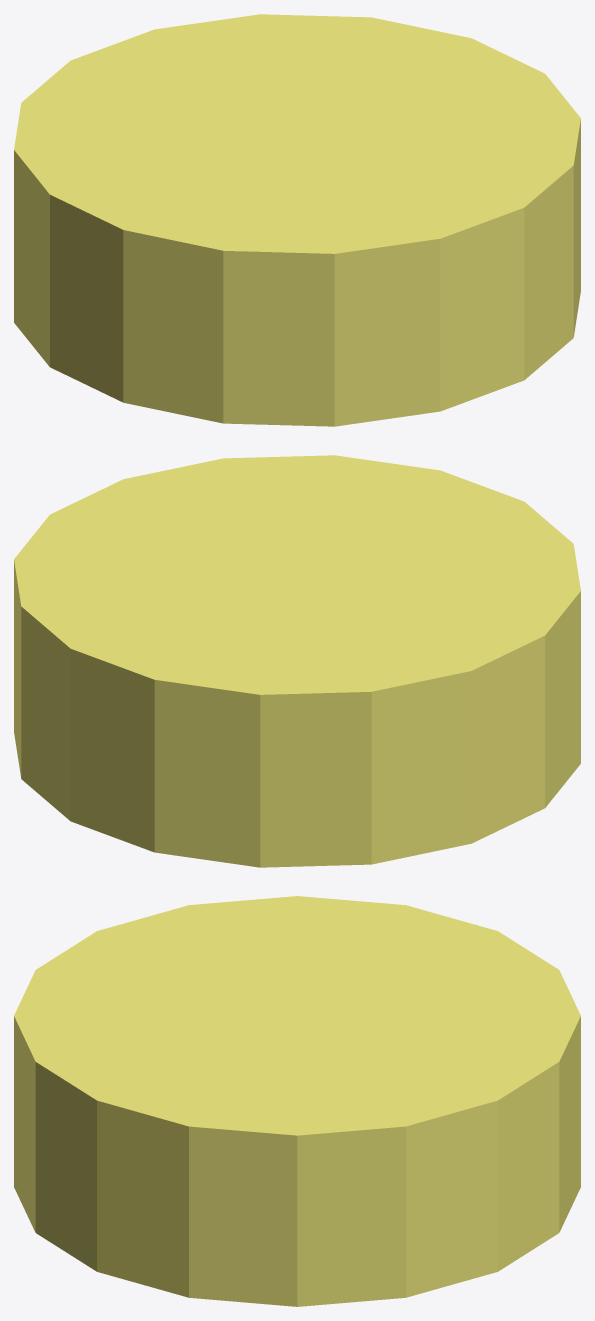
The model's file is target.glb.
The picture shows the model from 3 angles, top to bottom: view 1: azimuth 30°, elevation 25°; view 2: azimuth 150°, elevation 25°; view 3: azimuth 270°, elevation 25°; orthographic projection.
Visible parts, largest first — view 1: GEO_target; view 2: GEO_target; view 3: GEO_target.
Part boxes in pixels (box(x1,y1,x2,y2)): GEO_target: box(14, 14, 580, 426); GEO_target: box(14, 455, 580, 867); GEO_target: box(14, 896, 580, 1306).
Size of the model in its own units: 0.6 by 0.2 by 0.6.
